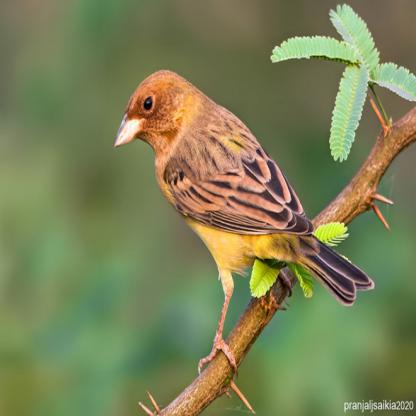Burung: (114, 70, 373, 336)
